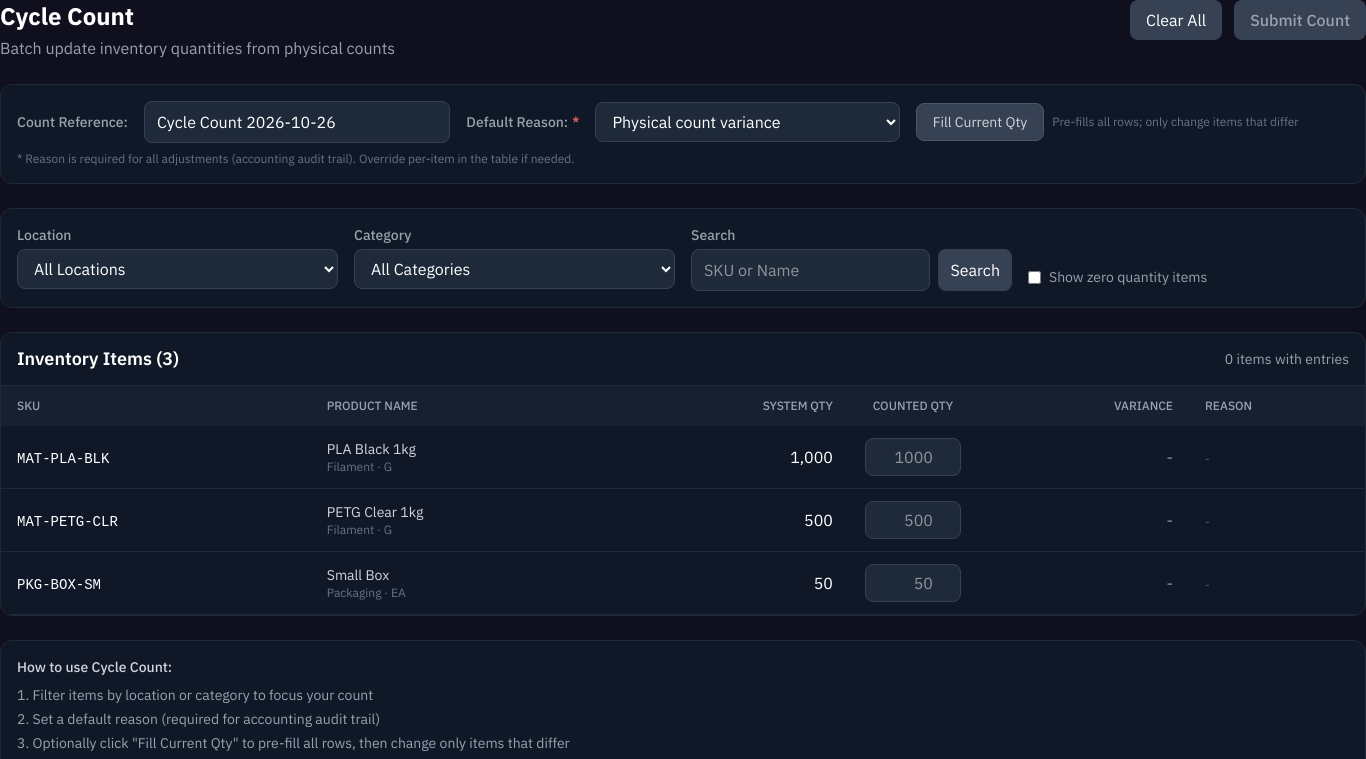
Test: AdminCycleCount — review modal opens on Submit Count › shows — for variance value when item has no unit cost
Expected: the text "PKG-BOX-SM" is shown, [17,577,101,593]
Item C (index 2): system 50, count 60 → variance +10, no cost → value —
Type "60" into the number field with placeholder "50" at {"x": 913, "y": 583}, box [865,564,961,602]
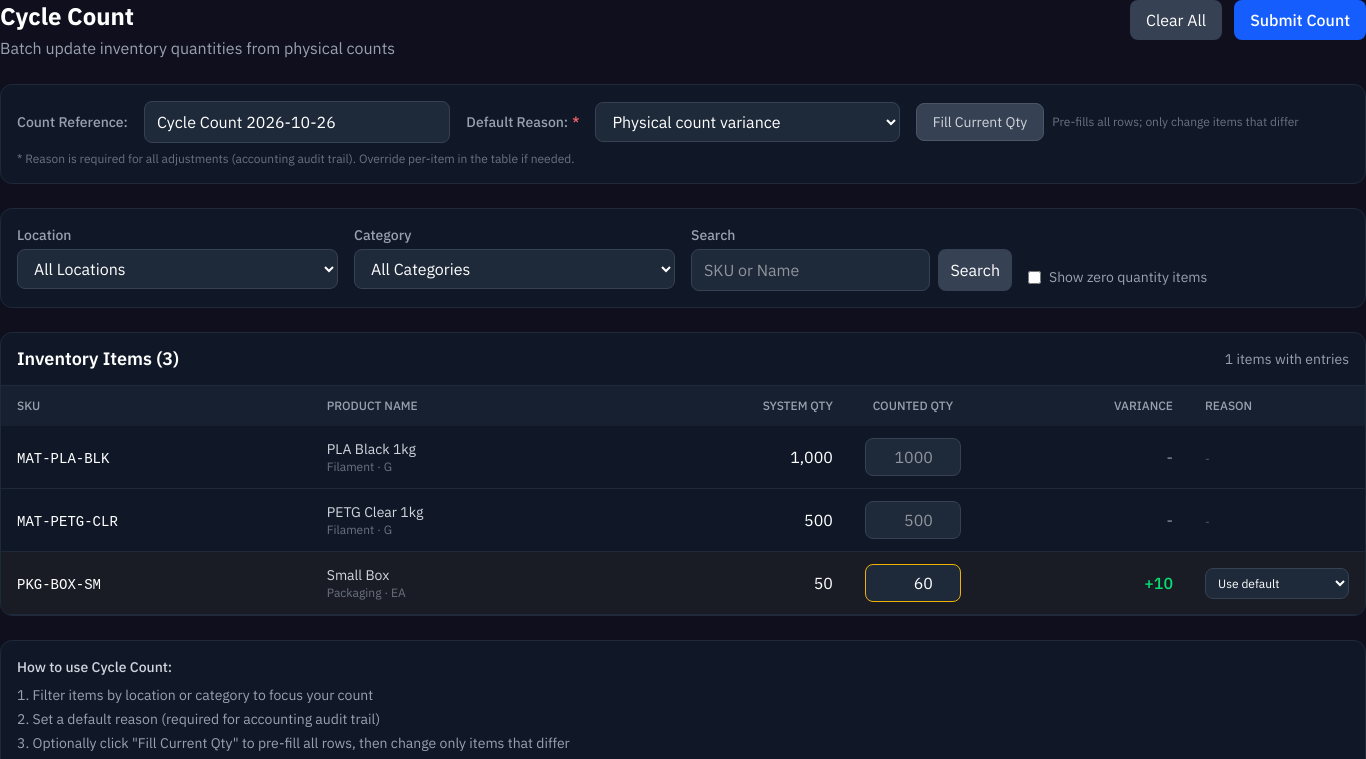
Click the button "Submit Count" at {"x": 1300, "y": 20}, box [1234,0,1365,40]
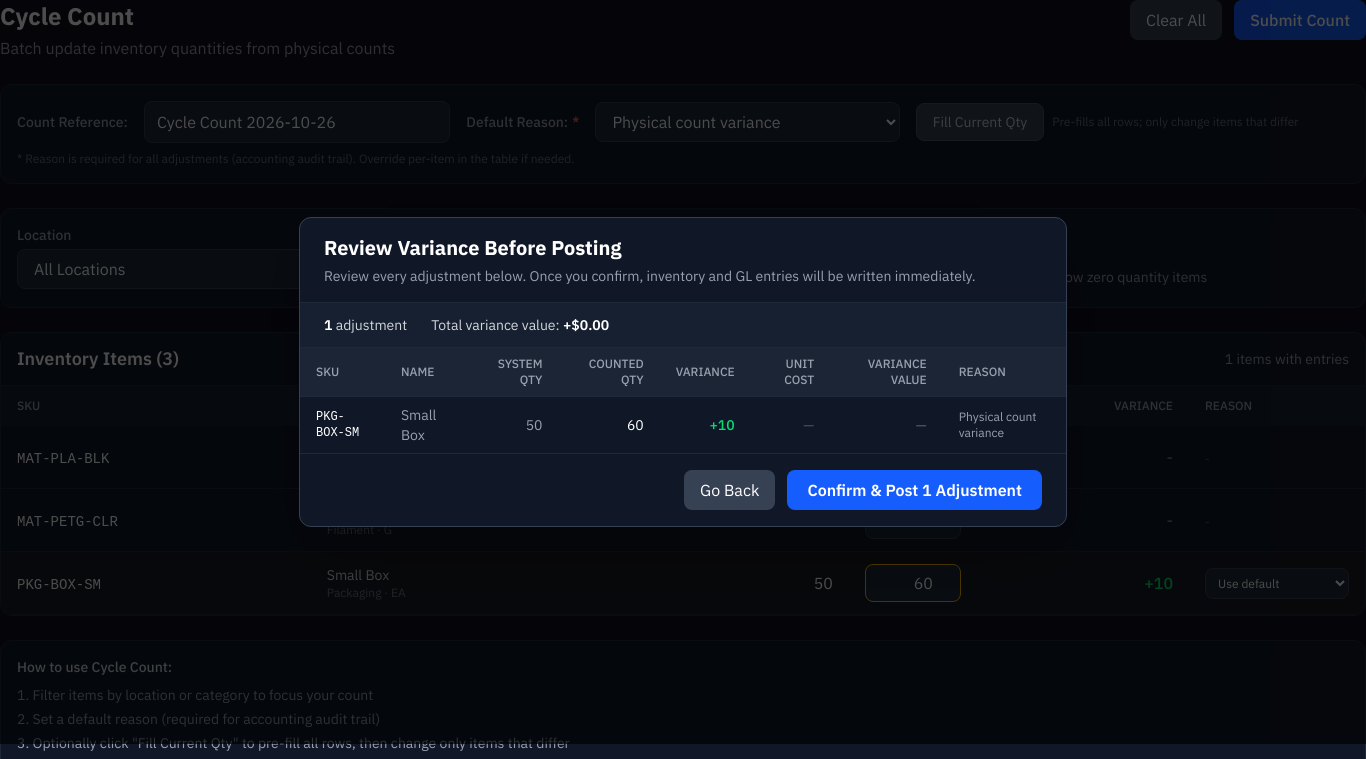
Expected: the 1st text "—" is shown, [803,416,814,434]
Now the heading "Review Variance Before Posting" is shown, box [324,234,622,261]
